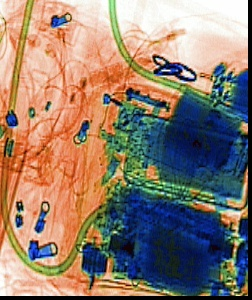powerbank: (206, 57, 247, 123)
